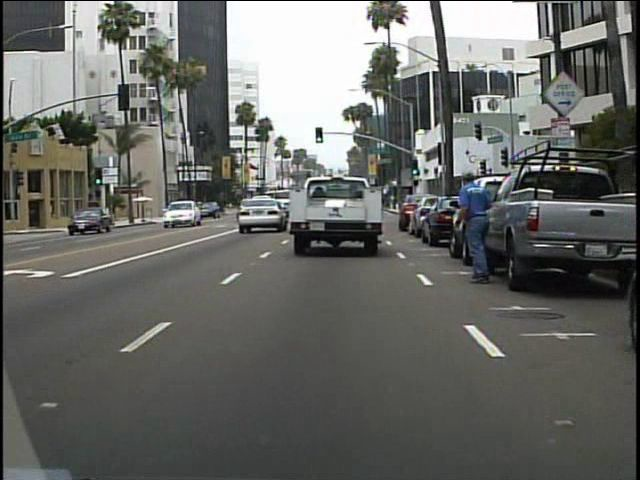person: (450, 168, 495, 284)
